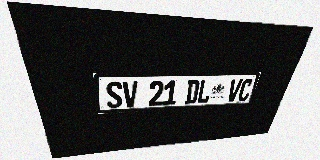1: (162, 80, 178, 105)
2: (149, 81, 164, 106)
C: (237, 79, 254, 101)
D: (184, 80, 200, 104)
L: (196, 80, 213, 103)
S: (106, 81, 123, 109)
V: (122, 81, 138, 108), (226, 79, 243, 102)
